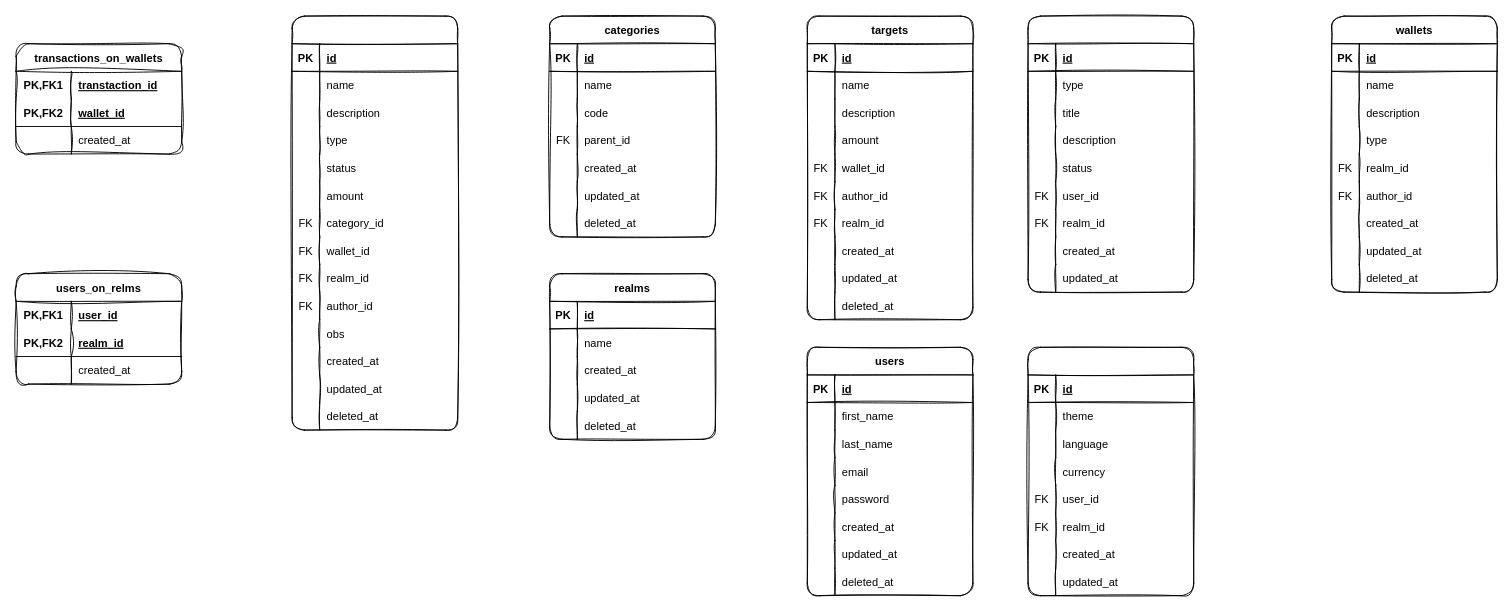
Image size: 1512x612. Some labels were removed from this diagram. The shapes that lost their labels are listed below. From the top down, each one's box as (x1, y1, x2, y2) in pixels, then its label:
(1027, 15, 1194, 292): notifications
(291, 15, 458, 430): transactions
(1027, 346, 1194, 596): preferences
